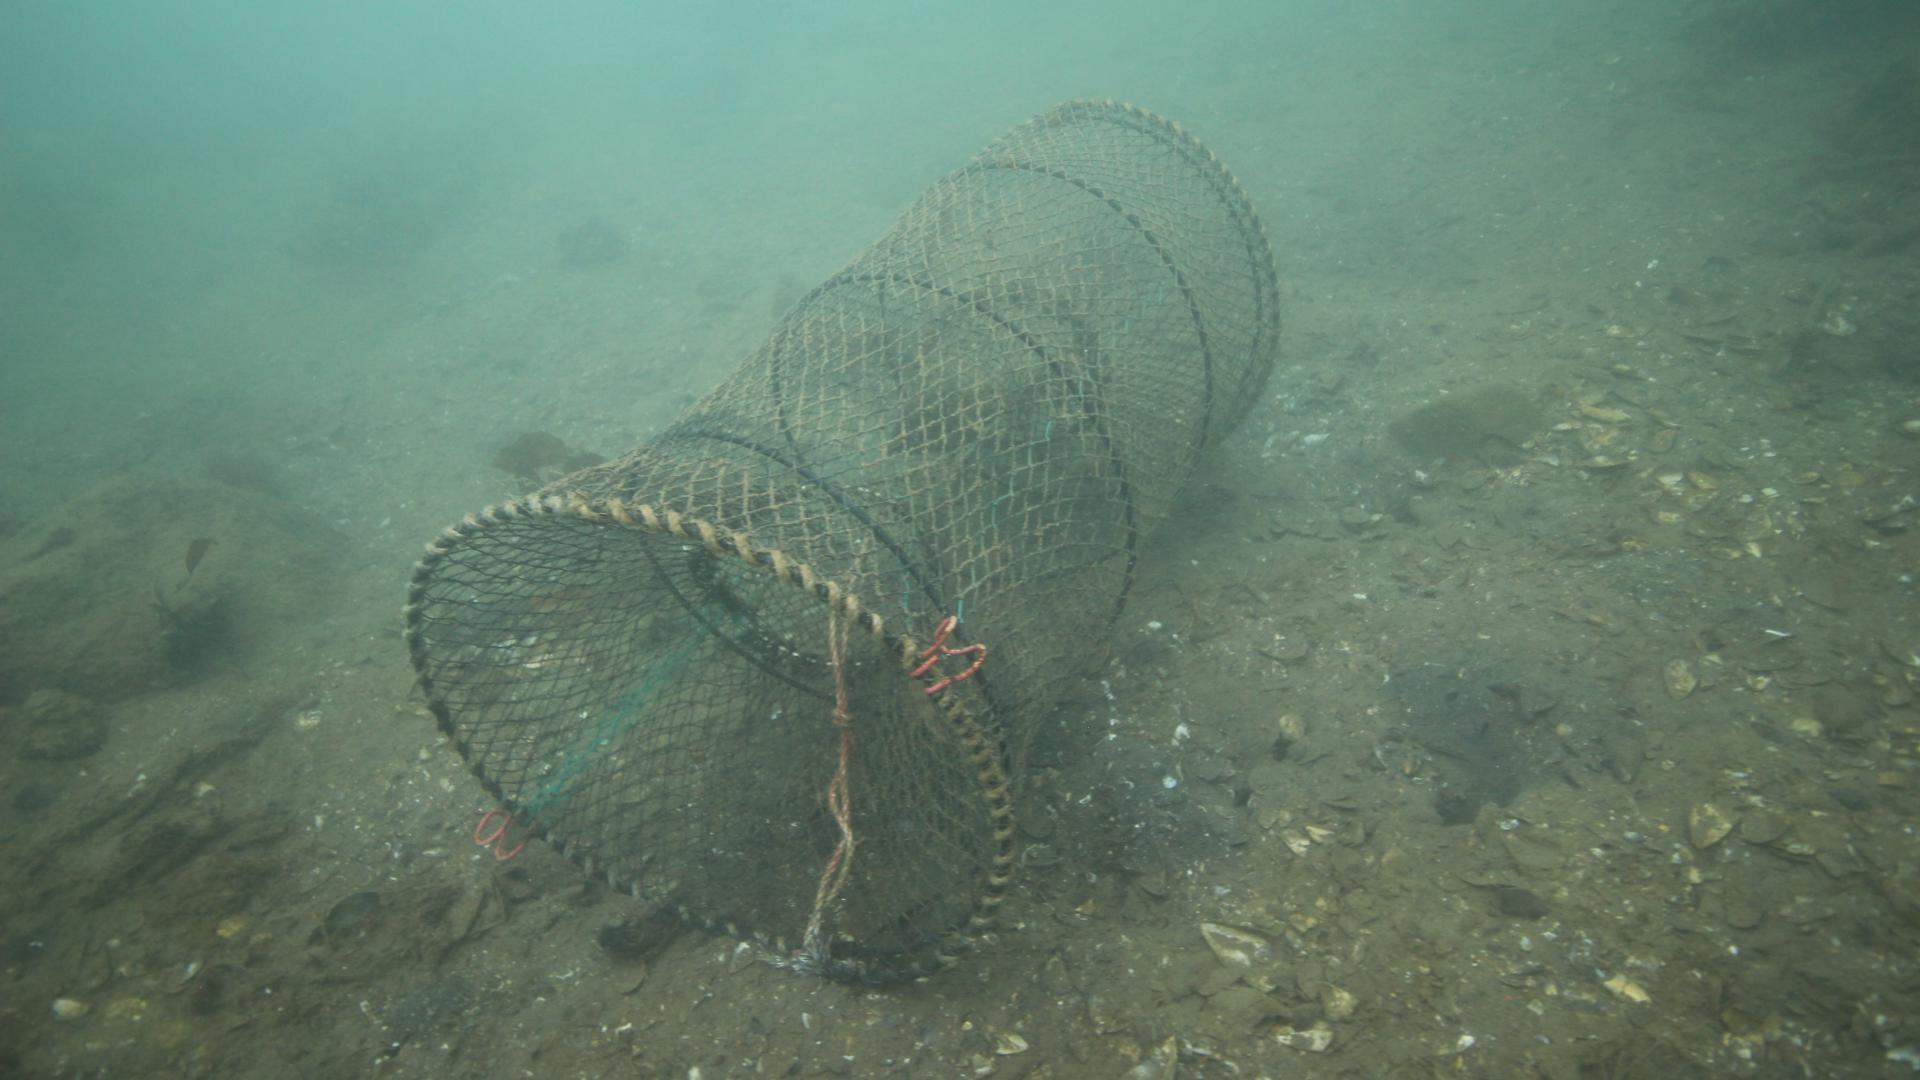spring fish trap: (398, 94, 1287, 992)
